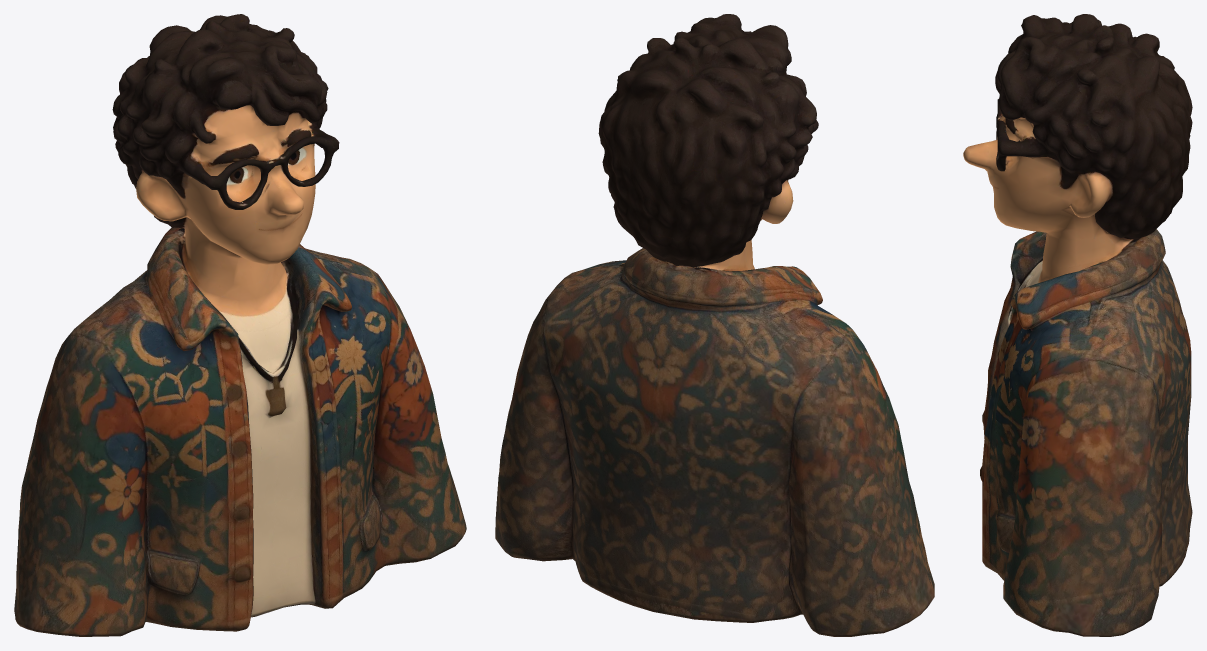
File: liu-yongle-avatar-DfskiCGM.glb
3 views of the same model, side by side, from view 1: azimuth 30°, elevation 25°; view 2: azimuth 150°, elevation 25°; view 3: azimuth 270°, elevation 25° (orthographic). The views are drawn at different scales.
Parts seen in each view (by area): view 1: Mesh_0; view 2: Mesh_0; view 3: Mesh_0.
Boxes of the visible parts, box(x1,y1,x2,y2) form: Mesh_0: box(14, 14, 466, 636); Mesh_0: box(495, 14, 934, 636); Mesh_0: box(963, 14, 1192, 636).
Size of the model in its own units: 1.55 by 1.91 by 0.7632.
1 material, 1 textured.
